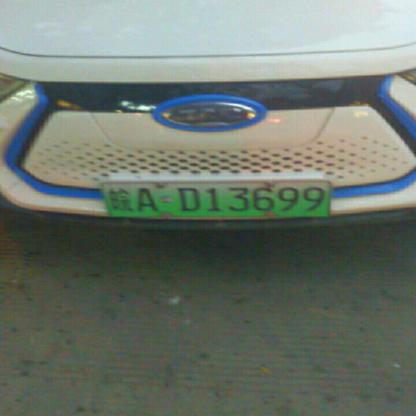lp: (101, 181, 330, 217)
